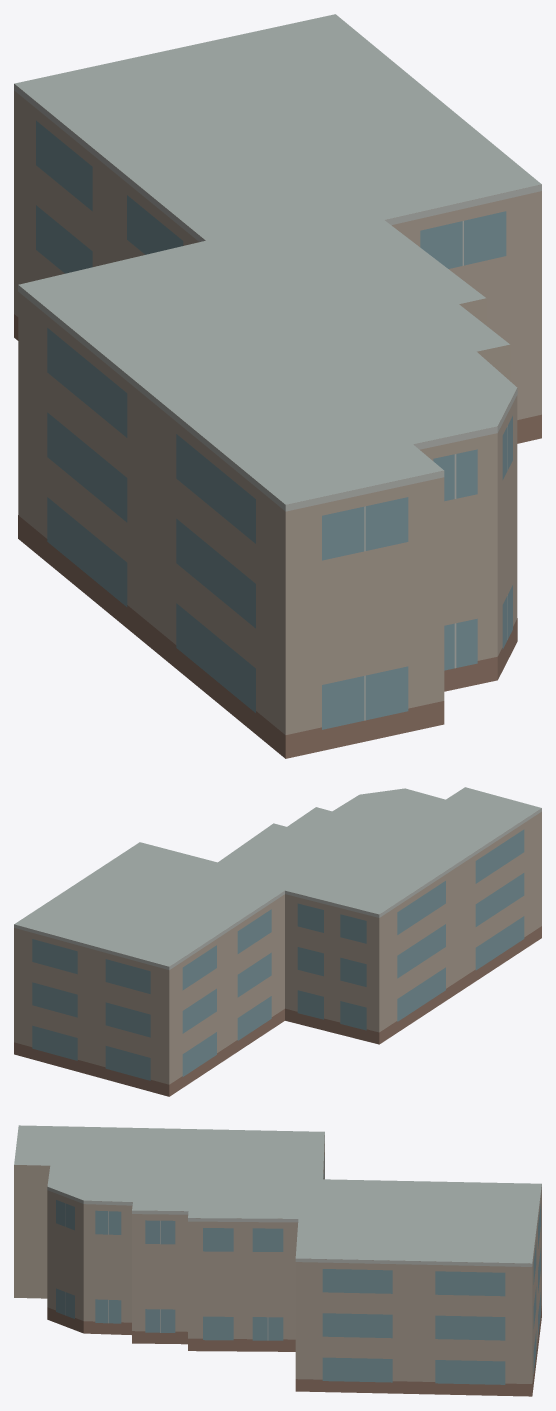
File: survey-upis-32662384.glb
3 renders of one model, top to bottom at view 1: azimuth 30°, elevation 25°; view 2: azimuth 150°, elevation 25°; view 3: azimuth 270°, elevation 25°, orthographic. The views are drawn at different scales.
Parts seen in each view (by area): view 1: survey-upis-32662384.tmp; view 2: survey-upis-32662384.tmp; view 3: survey-upis-32662384.tmp.
Part boxes in pixels (bbox=[...]): survey-upis-32662384.tmp: bbox=[14, 14, 541, 758]; survey-upis-32662384.tmp: bbox=[14, 787, 541, 1096]; survey-upis-32662384.tmp: bbox=[14, 1125, 541, 1396].
Bounding box in the file's own units: 20.38 × 9.15 × 32.92.
